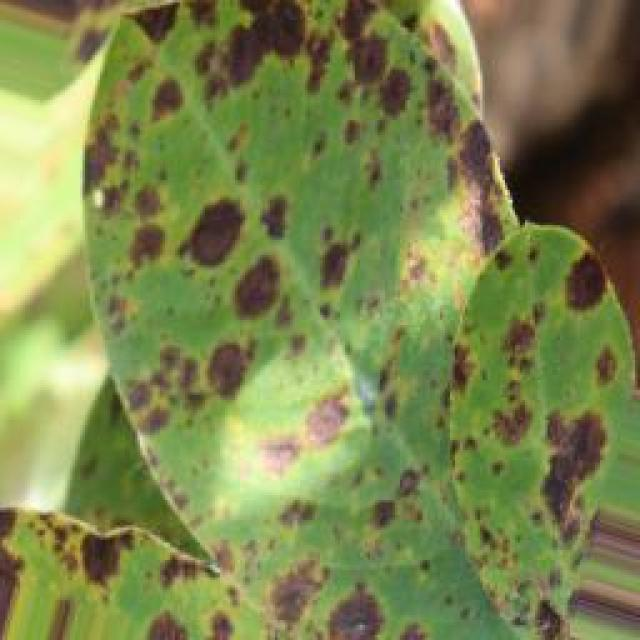Yellowish: (0, 0, 630, 620)
